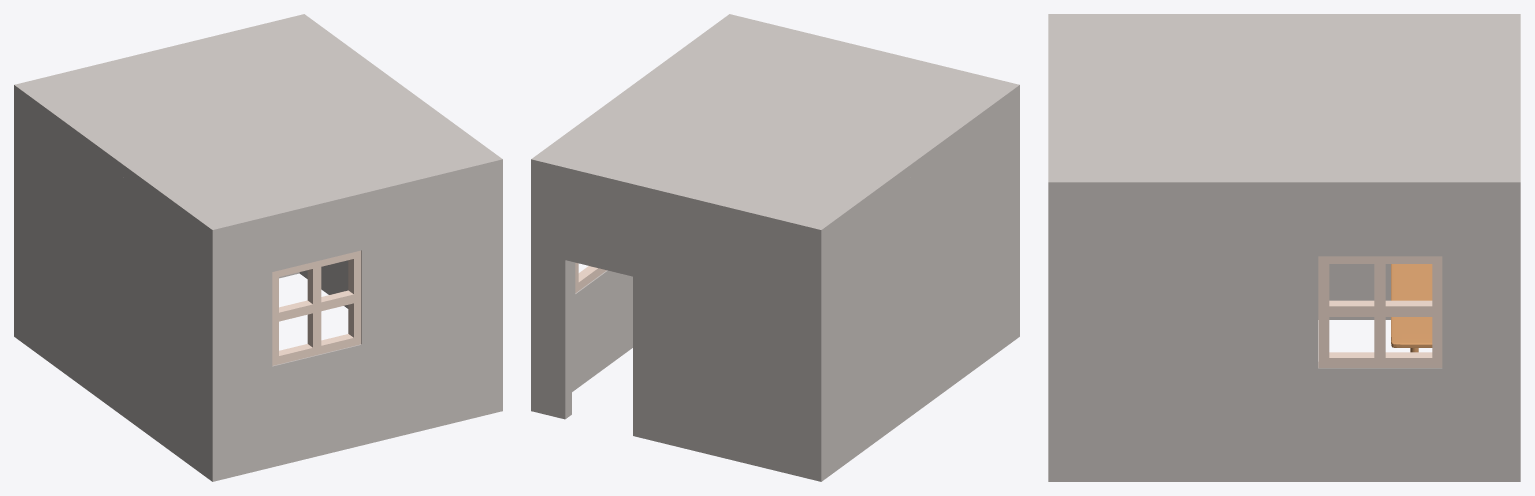
Rendered from roomproto.glb.
3 renders of one model, left to right at view 1: azimuth 30°, elevation 25°; view 2: azimuth 150°, elevation 25°; view 3: azimuth 270°, elevation 25°, orthographic. The views are drawn at different scales.
Visible parts, largest first — view 1: Cube.009, Cube.003, Cube, Cube.001, Cube.004; view 2: Cube.009, Cube.002, Cube, Cube.004; view 3: Cube.004, Cube.009, Cube.005, Cube.007, Cube.
Part boxes in pixels (x1,y1,x2,y2): Cube.009: (14, 14, 502, 241); Cube.003: (224, 174, 491, 478); Cube: (14, 97, 223, 481); Cube.001: (272, 250, 361, 365); Cube.004: (299, 171, 502, 413); Cube.009: (531, 14, 1019, 241); Cube.002: (542, 174, 809, 478); Cube: (810, 97, 1019, 481); Cube.004: (531, 171, 632, 413); Cube.004: (1048, 196, 1520, 481); Cube.009: (1048, 14, 1520, 196); Cube.005: (1318, 256, 1442, 367); Cube.007: (1391, 264, 1432, 347); Cube: (1318, 256, 1390, 319).
Bounding box in the file's own units: 3.8 × 3.16 × 4.5.
